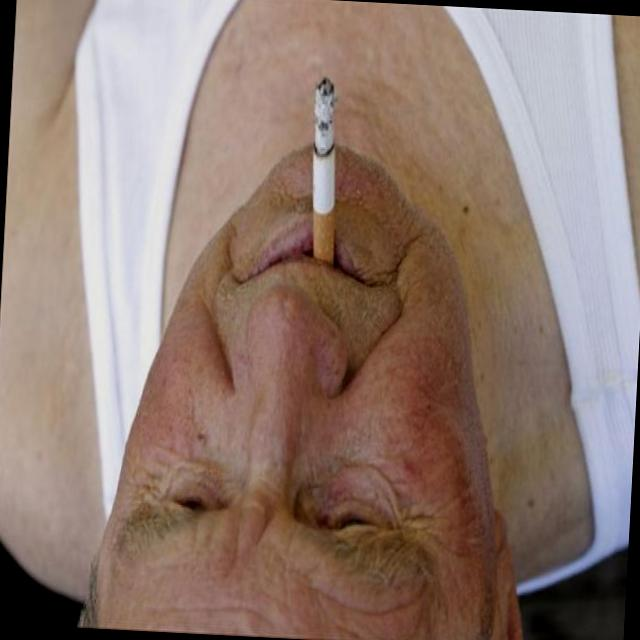cigarette: (298, 63, 351, 286)
